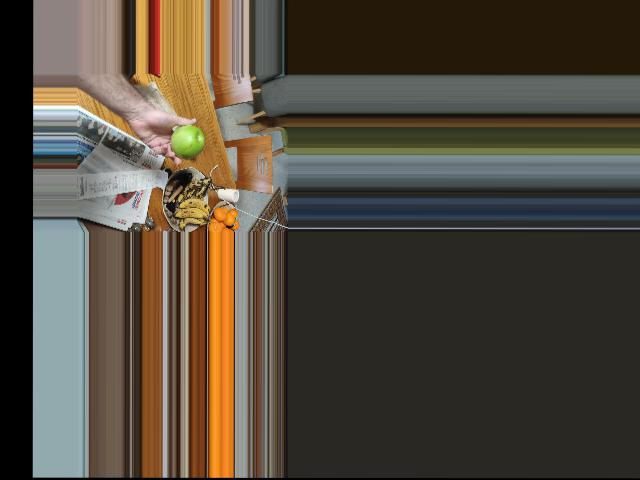apple: (168, 125, 204, 157)
